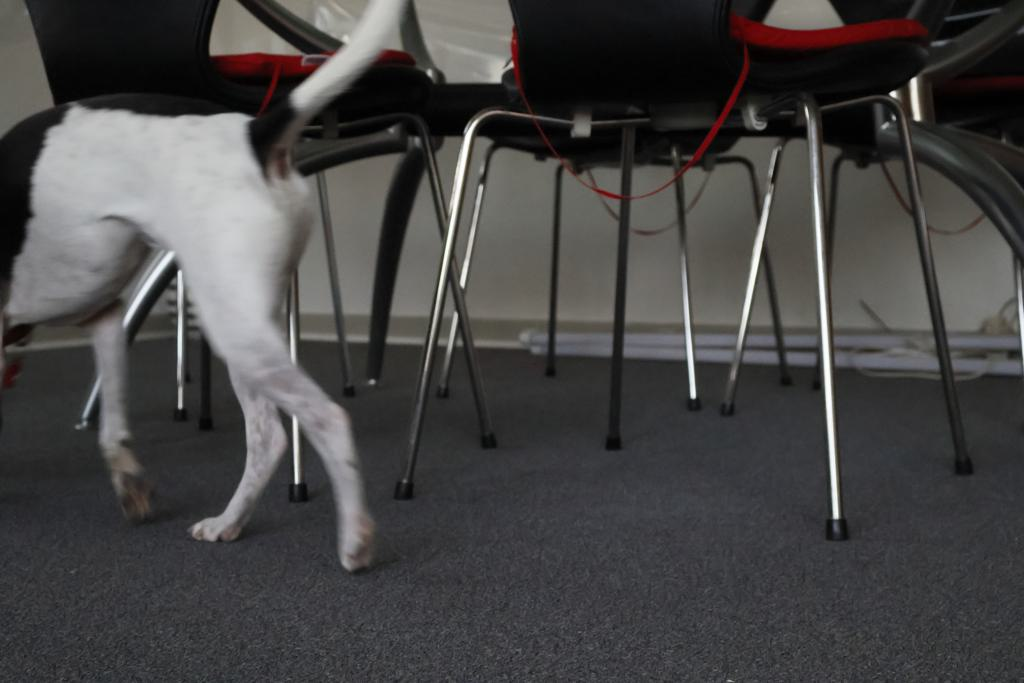Dog: (0, 0, 417, 576)
